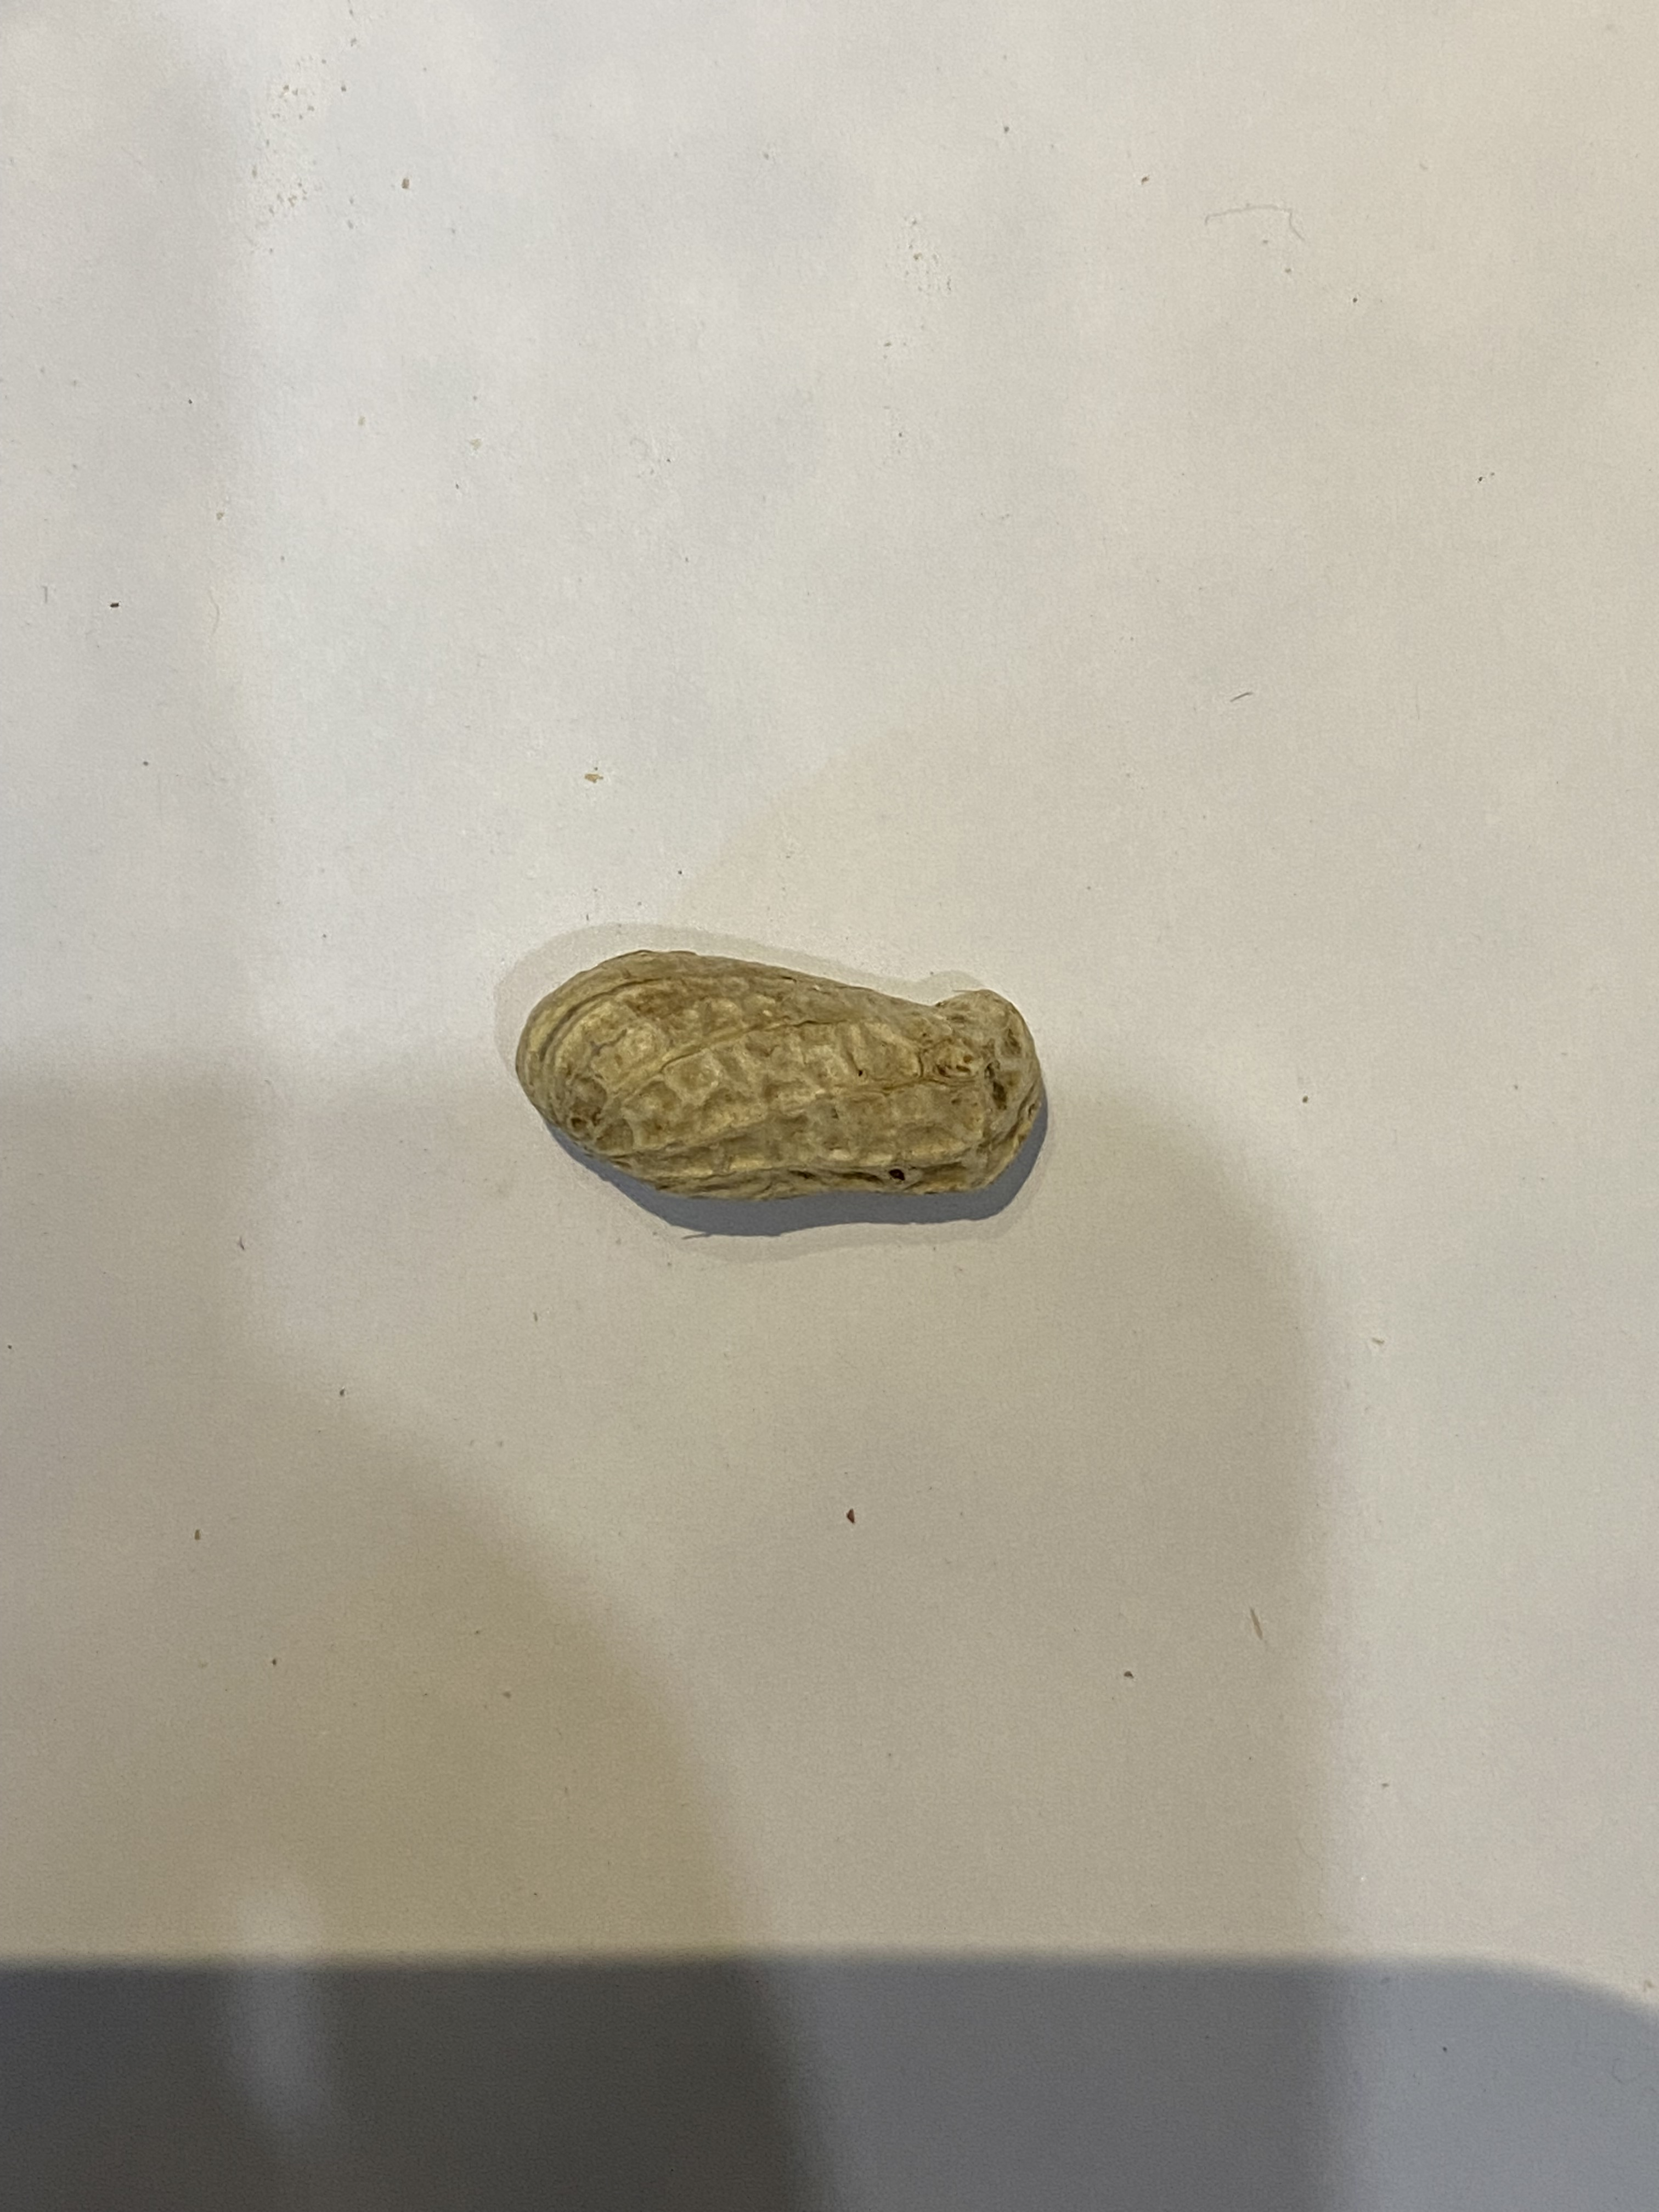kacang1: (498, 914, 1072, 1212)
